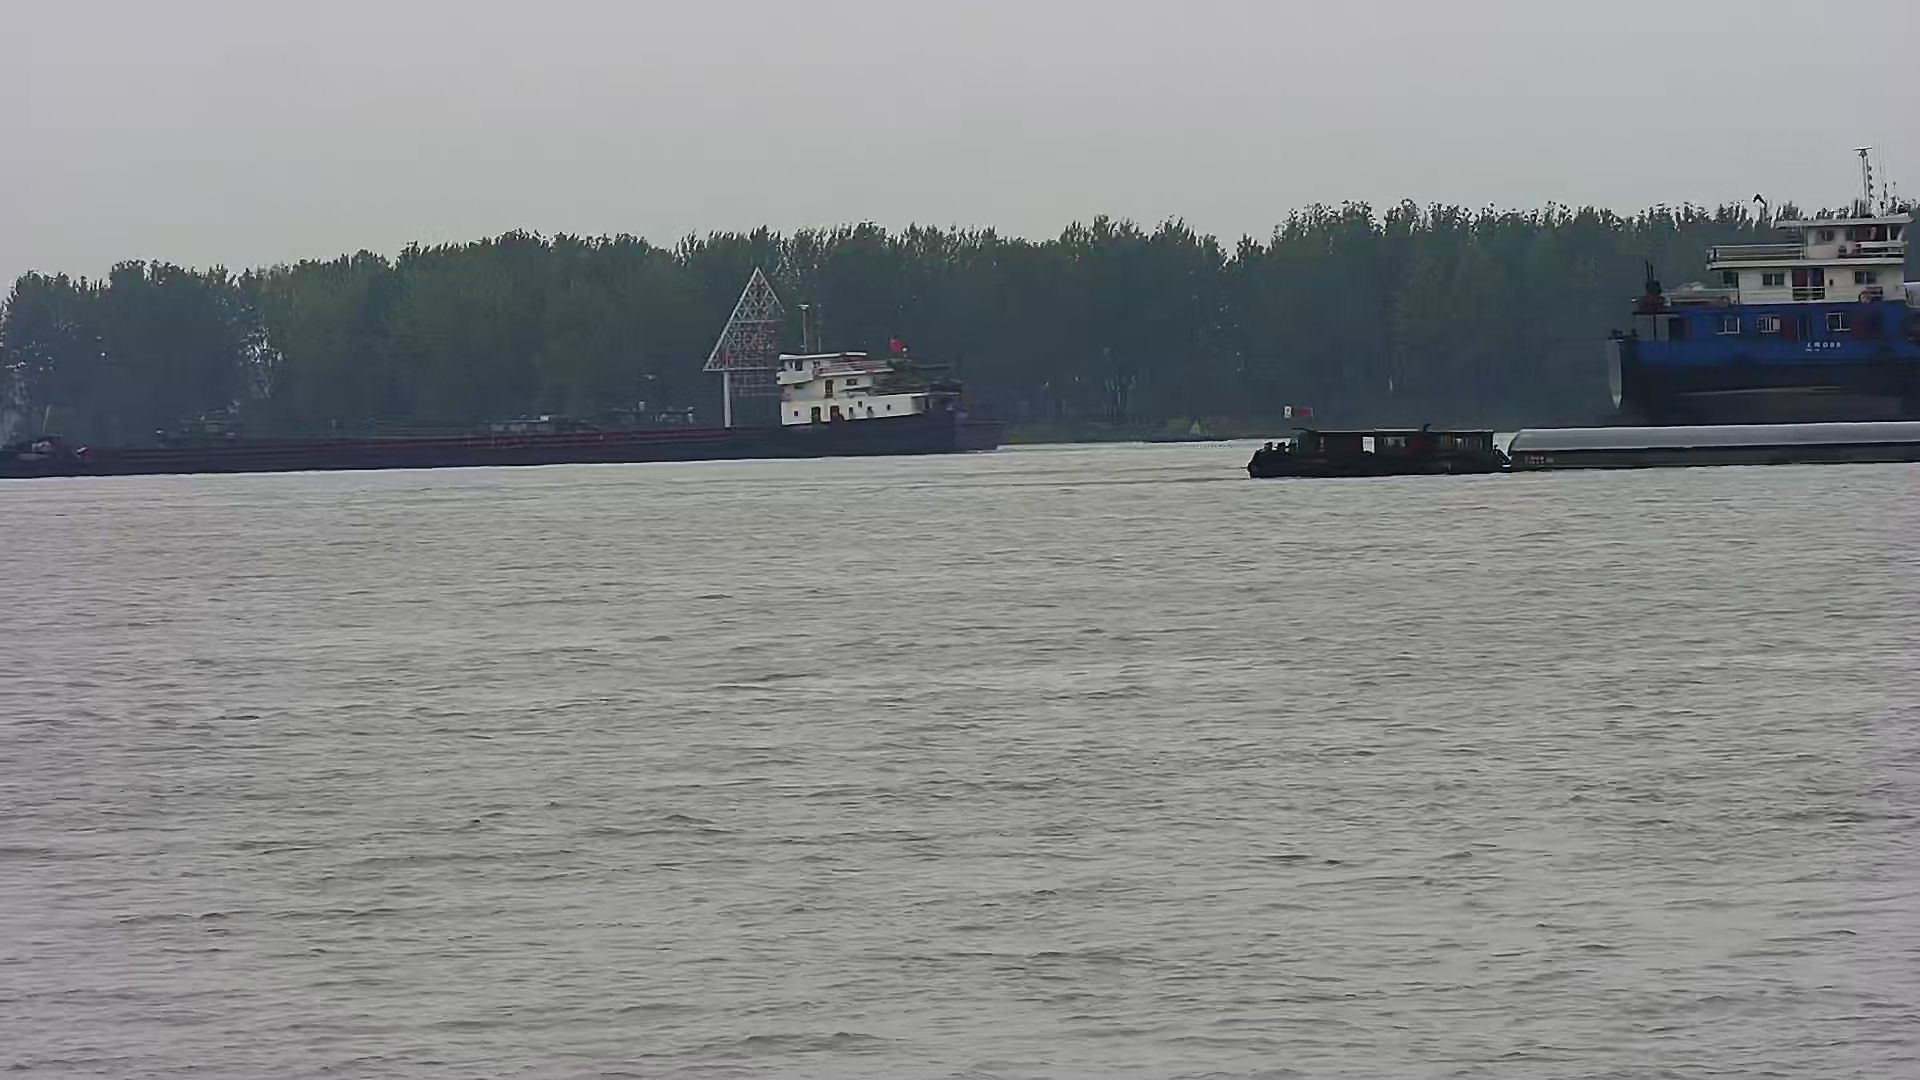boat: (1137, 411, 1233, 446)
ship: (1, 326, 1018, 477), (1609, 182, 1920, 455), (1244, 401, 1920, 481)
